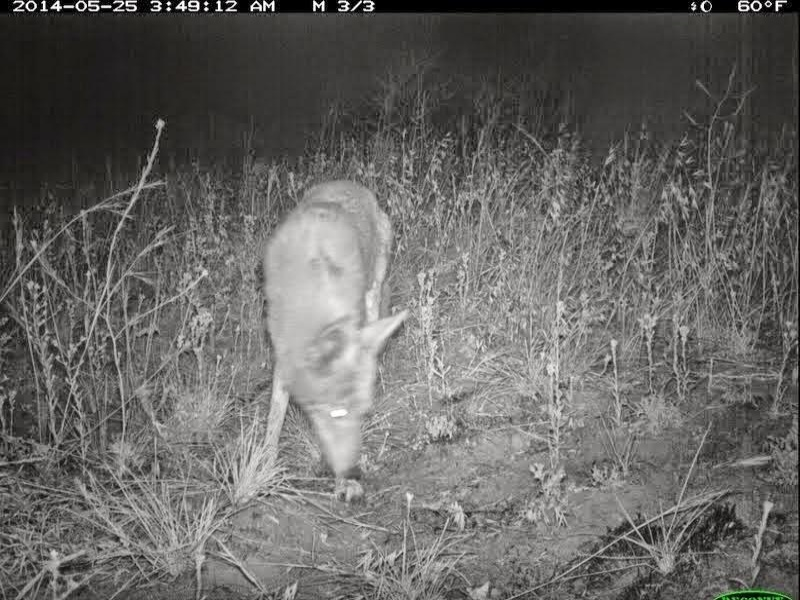coyote: (251, 175, 411, 501)
